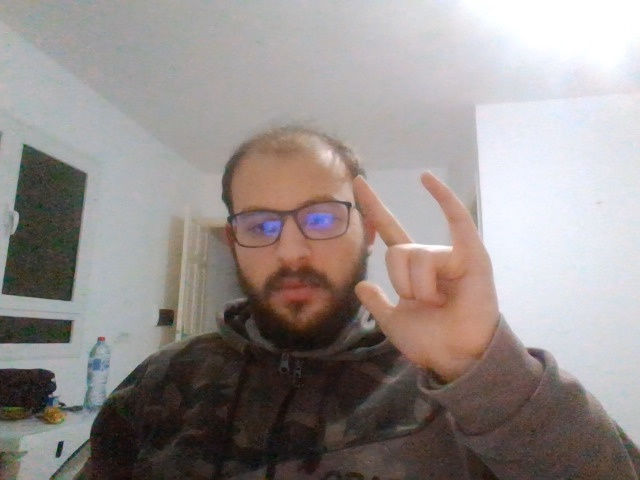I Love You: (352, 179, 497, 363)
